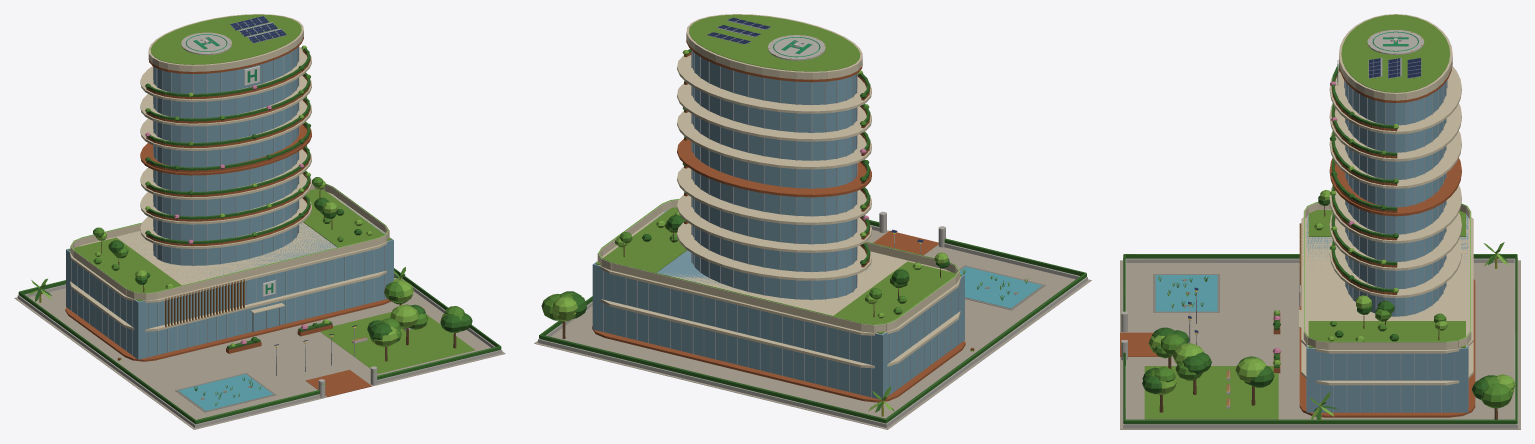
Rendered from hospital.glb.
3 renders of one model, left to right at view 1: azimuth 30°, elevation 25°; view 2: azimuth 150°, elevation 25°; view 3: azimuth 270°, elevation 25°, orthographic. The views are drawn at different scales.
Visible parts, largest first — view 1: body, windows; view 2: body, windows; view 3: body, windows.
Boxes of the visible parts, x1,y1,x2,y2 form: body: (14,14,505,429); windows: (71,32,388,384); body: (534,14,1091,429); windows: (598,35,959,324); body: (1120,14,1520,429); windows: (1121,29,1470,344).
Bounding box in the file's own units: 48.24 × 39.3 × 47.9.
